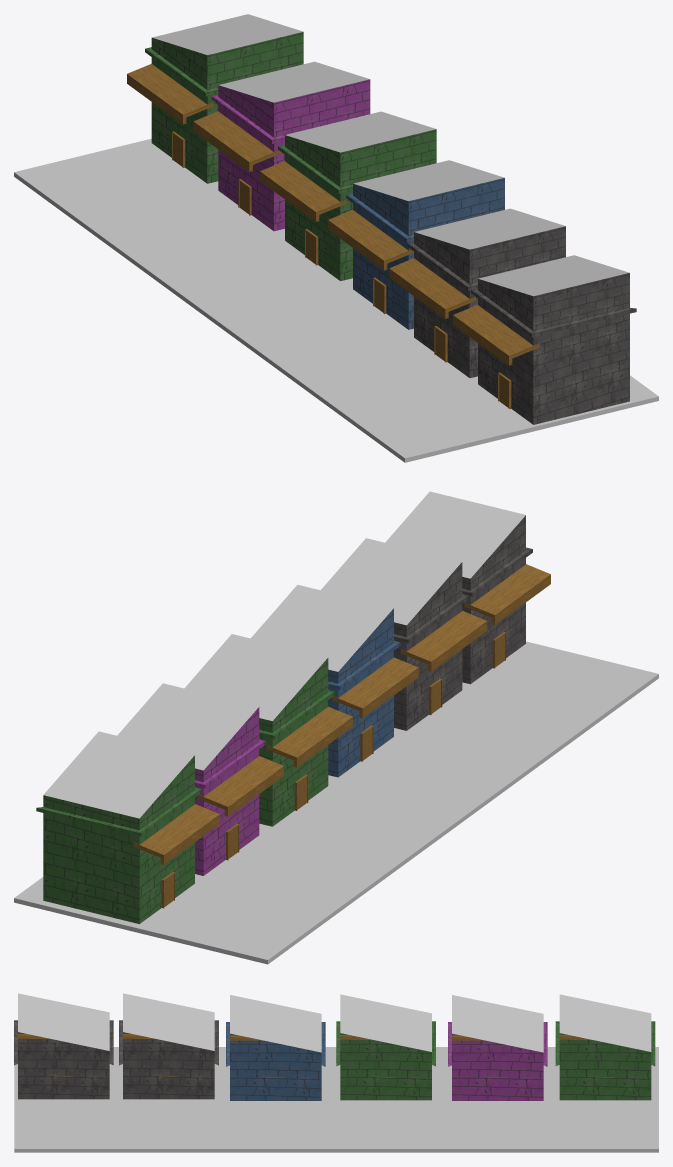
Rendered from Bloco 5.fbx.
3 views of the same model, one above another, from view 1: azimuth 30°, elevation 25°; view 2: azimuth 150°, elevation 25°; view 3: azimuth 270°, elevation 25° (orthographic). The views are drawn at different scales.
Visible parts, largest first — view 1: Bloco 5; view 2: Bloco 5; view 3: Bloco 5.
Part boxes in pixels (x1,y1,x2,y2): Bloco 5: (14,14,658,462); Bloco 5: (14,491,658,964); Bloco 5: (14,993,658,1152).
Bounding box in the file's own units: 3000 × 1502 × 8006.
